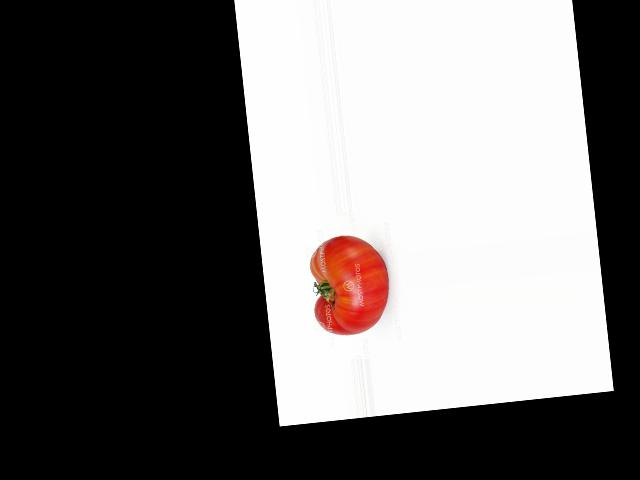tomato: (306, 231, 393, 337)
